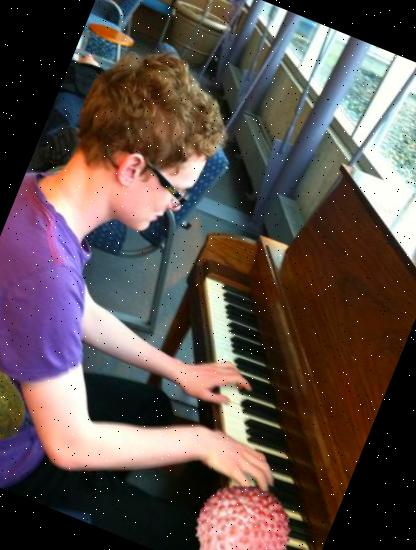Lychee: (179, 467, 305, 550)
Melon: (0, 341, 44, 461)
